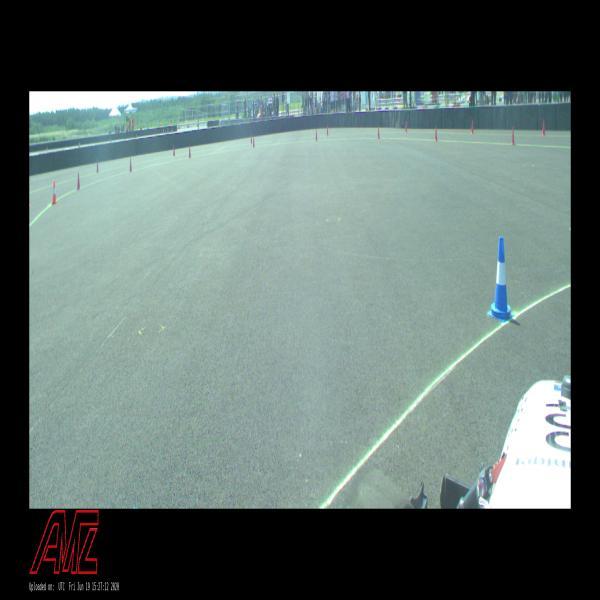blue_cone: (487, 236, 515, 322)
orange_cone: (51, 180, 58, 205)
